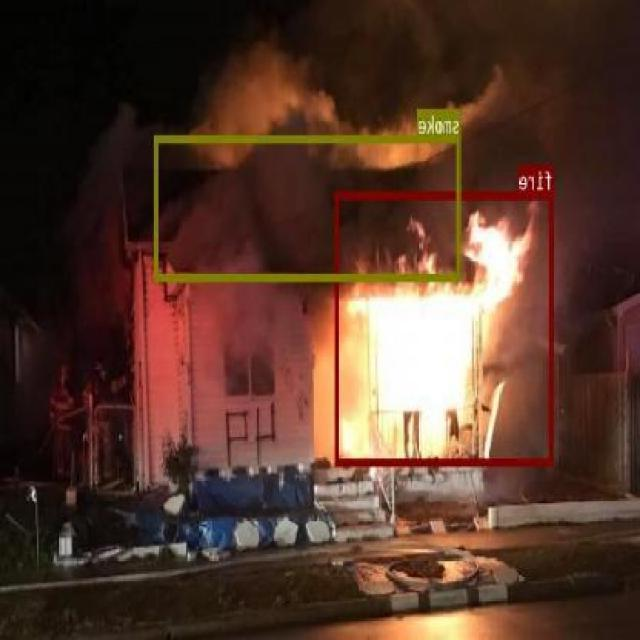Fire: (336, 190, 555, 464)
Smoke: (154, 134, 462, 280)
